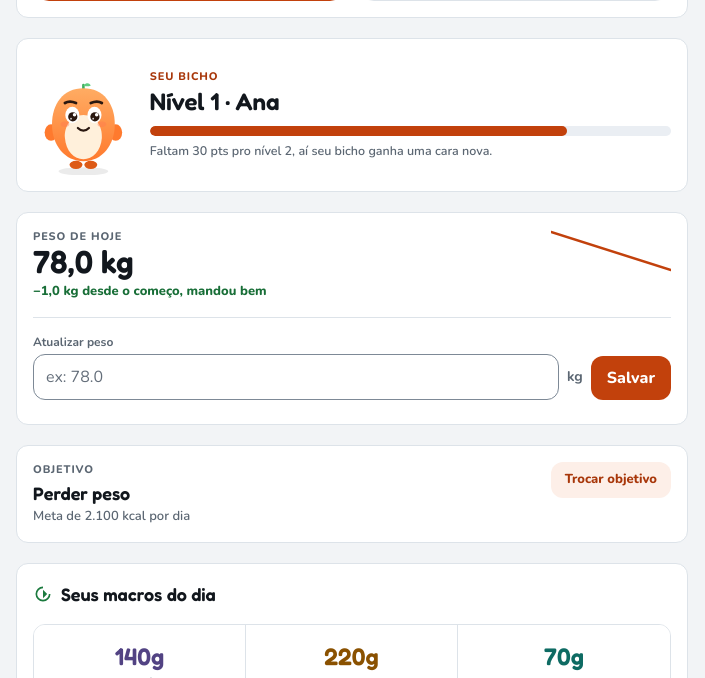
it: ProfilePage weight card › shows the failure when the weight cannot be saved
(page scrolled)
Type "80" into the number field labelled "Atualizar peso" at (296,377), box [33,354,559,400]
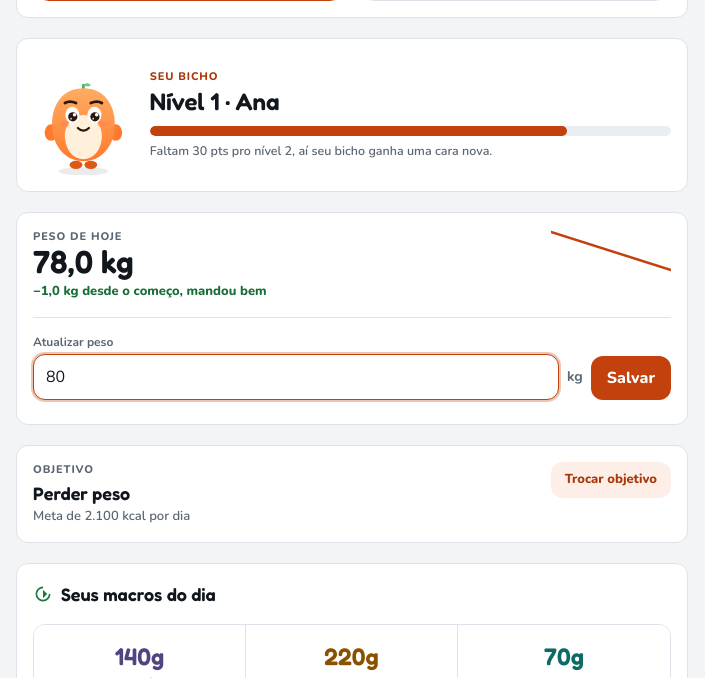
Click the button "Salvar" at (631,378), box [591,356,671,400]
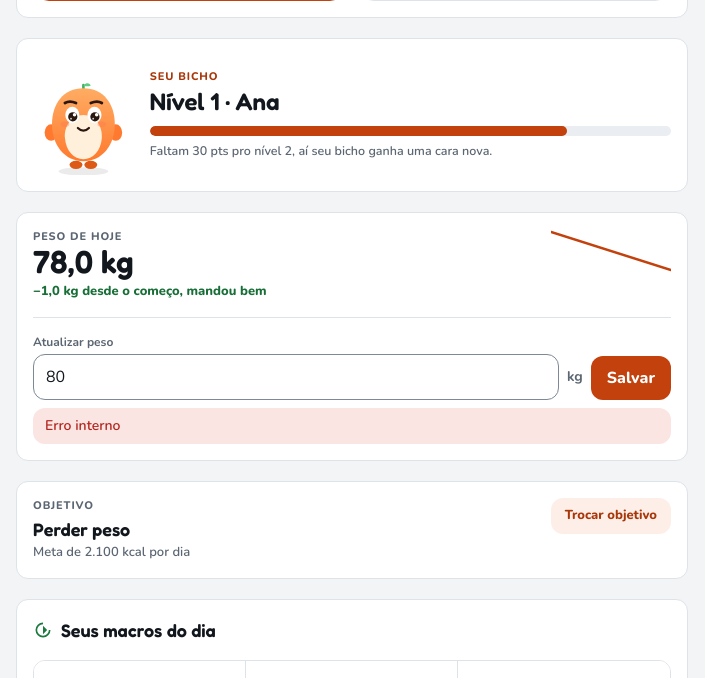
Result: the message reads "Erro interno" at [45,416,120,435]
